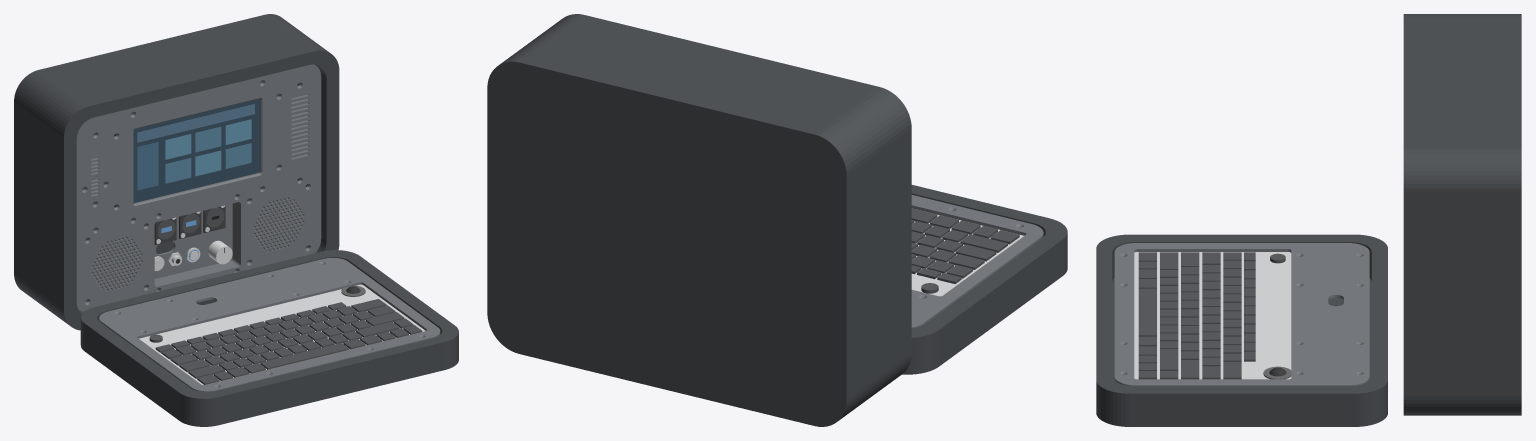
Rendered from fieldstation_assembly.glb.
3 renders of one model, left to right at view 1: azimuth 30°, elevation 25°; view 2: azimuth 150°, elevation 25°; view 3: azimuth 270°, elevation 25°, orthographic. The views are drawn at different scales.
Parts seen in each view (by area): view 1: base_case, base_panel, lid_case, lid_overlay, screen, kb_plate, port_tray, ui_bar, ui_side, p53, ui_tile01, ui_tile20 (+5 smaller); view 2: base_case, lid_case, lid_overlay, kb_plate; view 3: base_case, lid_case, lid_overlay, kb_plate, p53, p70.
Boxes of the visible parts, x1,y1,x2,y2 form: base_case: (14, 14, 339, 330); base_panel: (76, 64, 321, 311); lid_case: (80, 250, 458, 426); lid_overlay: (99, 258, 440, 391); screen: (114, 81, 261, 207); kb_plate: (139, 284, 425, 384); port_tray: (144, 195, 239, 290); ui_bar: (137, 104, 254, 142); ui_side: (137, 142, 158, 190); p53: (260, 343, 349, 369); ui_tile01: (165, 134, 191, 159); ui_tile20: (225, 143, 251, 168); base_case: (487, 14, 911, 426); lid_case: (902, 185, 1067, 374); lid_overlay: (911, 195, 1043, 328); kb_plate: (911, 214, 1024, 296); base_case: (1403, 14, 1521, 415); lid_case: (1096, 234, 1387, 426); lid_overlay: (1114, 243, 1369, 386); kb_plate: (1134, 252, 1291, 379); p53: (1138, 288, 1156, 336); p70: (1160, 349, 1178, 370).
Size of what is drawn, in the model's own units: 338 by 262 by 382.
